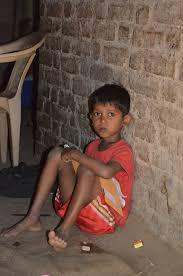Human: (19, 71, 136, 259)
